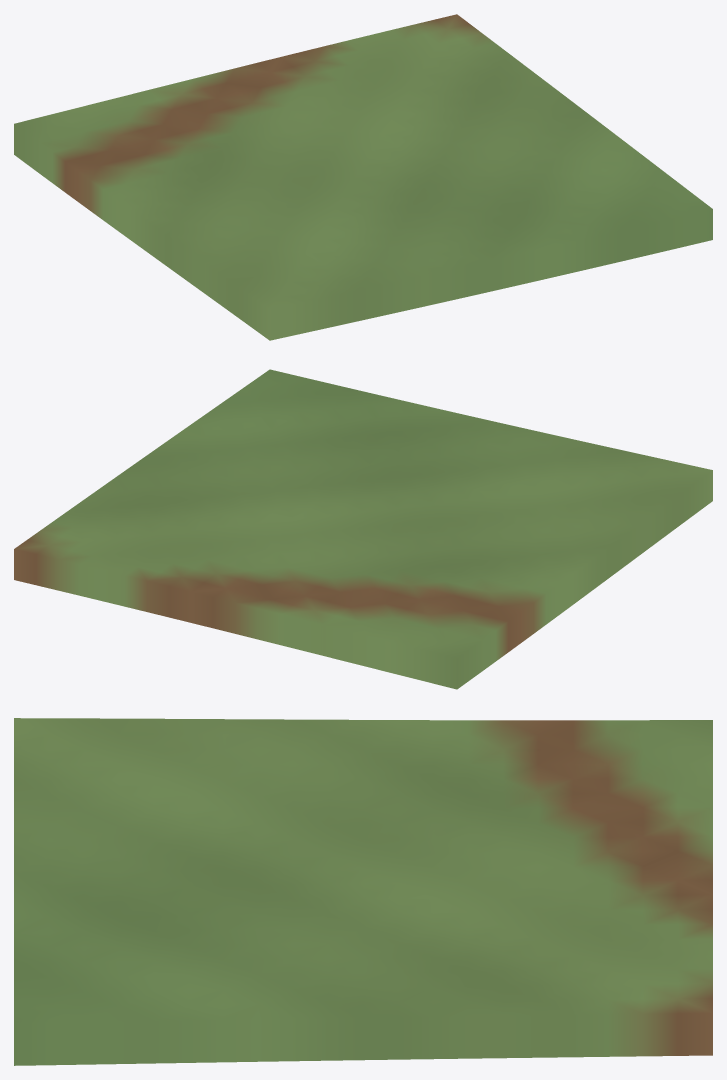
3 views of the same model, one above another, from view 1: azimuth 30°, elevation 25°; view 2: azimuth 150°, elevation 25°; view 3: azimuth 270°, elevation 25° (orthographic). The views are drawn at different scales.
Parts seen in each view (by area): view 1: terrain; view 2: terrain; view 3: terrain.
Part boxes in pixels (<box>): terrain: <box>14,14,712,340</box>; terrain: <box>14,369,712,689</box>; terrain: <box>14,718,712,1065</box>.
Size of the model in its own units: 30 by 2.51 by 30.
